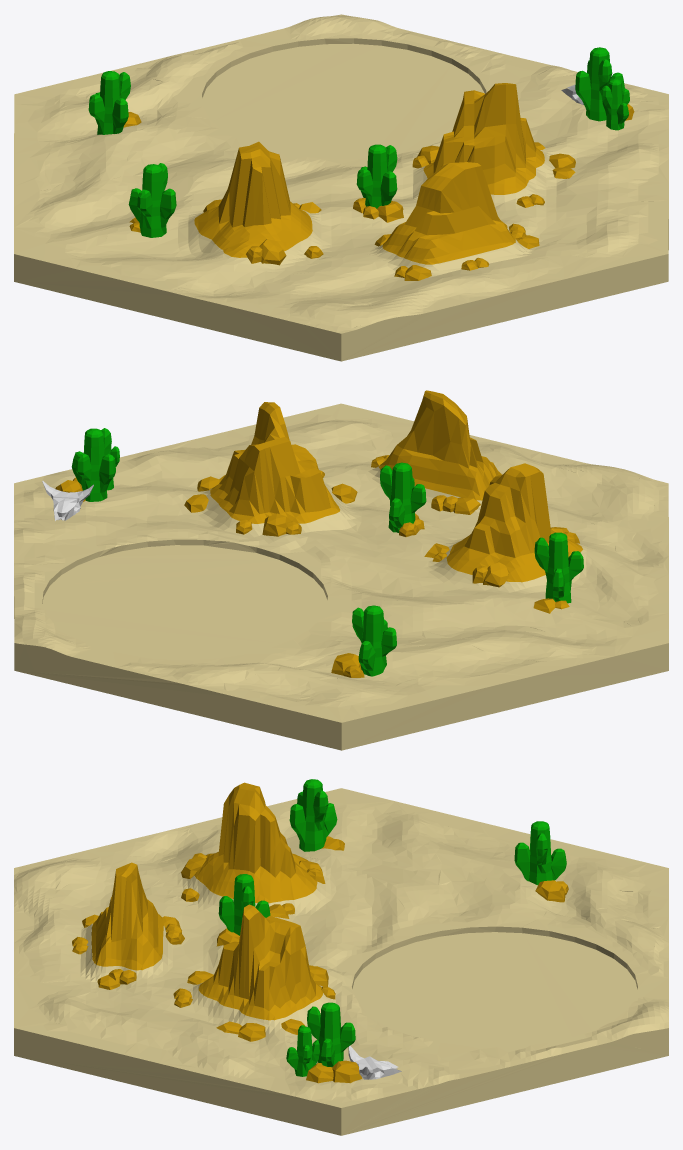
The model's file is desert.glb.
3 views of the same model, one above another, from view 1: azimuth 30°, elevation 25°; view 2: azimuth 150°, elevation 25°; view 3: azimuth 270°, elevation 25° (orthographic).
Parts seen in each view (by area): view 1: desert; view 2: desert; view 3: desert.
Boxes of the visible parts, x1=… form: desert: x1=14, y1=14, x2=668, y2=361; desert: x1=14, y1=390, x2=668, y2=750; desert: x1=14, y1=779, x2=668, y2=1135.
Bounding box in the file's own units: 74 × 13.47 × 64.02.
